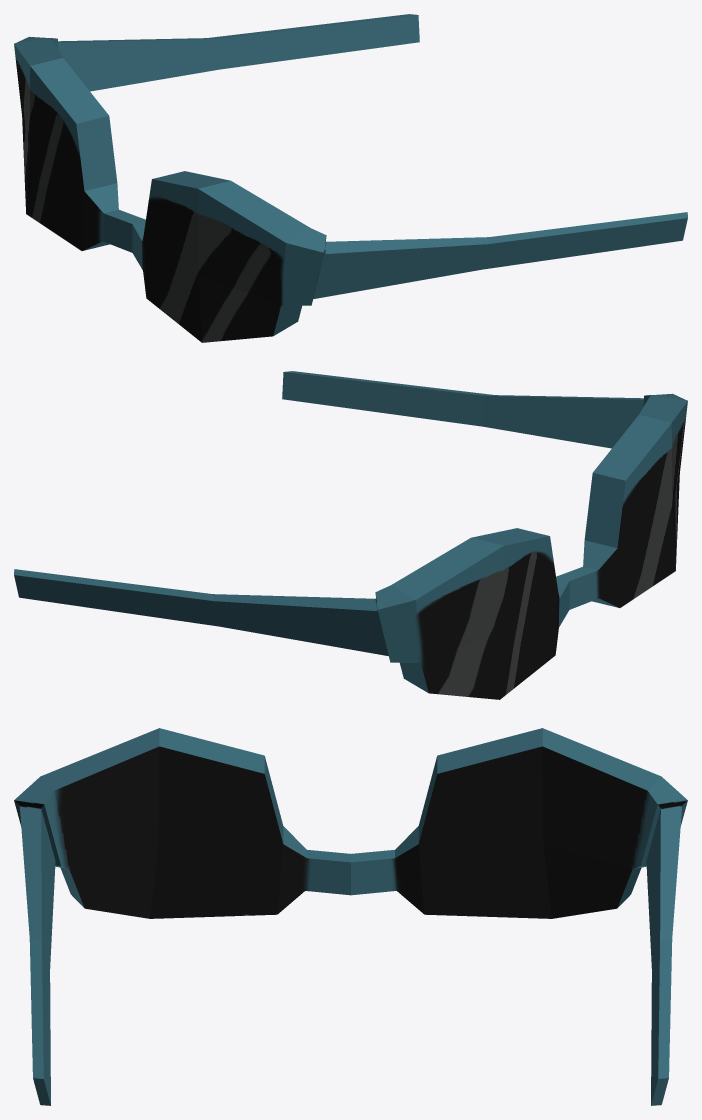
Rendered from glasses.fbx.
3 renders of one model, top to bottom at view 1: azimuth 30°, elevation 25°; view 2: azimuth 150°, elevation 25°; view 3: azimuth 270°, elevation 25°, orthographic. The views are drawn at different scales.
Parts seen in each view (by area): view 1: Cube; view 2: Cube; view 3: Cube.
Part boxes in pixels (x1,y1,x2,y2): Cube: (14,14,687,342); Cube: (14,371,687,699); Cube: (14,728,687,1105).
Size of the model in its own units: 248 by 81.63 by 289.
Materials: 1 (1 with a texture image).
